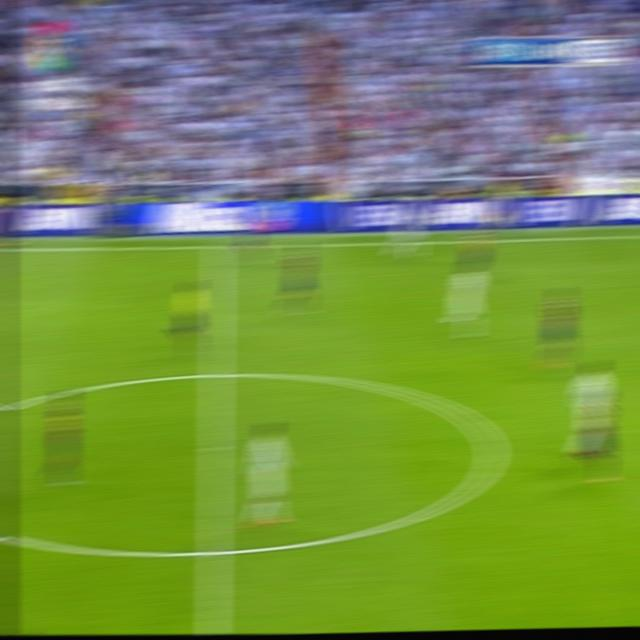halfcircle_bottom: (199, 528, 228, 574)
halfcircle_top: (202, 353, 229, 393)
midline_bottom_intersection: (199, 529, 228, 574)
midline_top_intersection: (205, 243, 230, 259)
